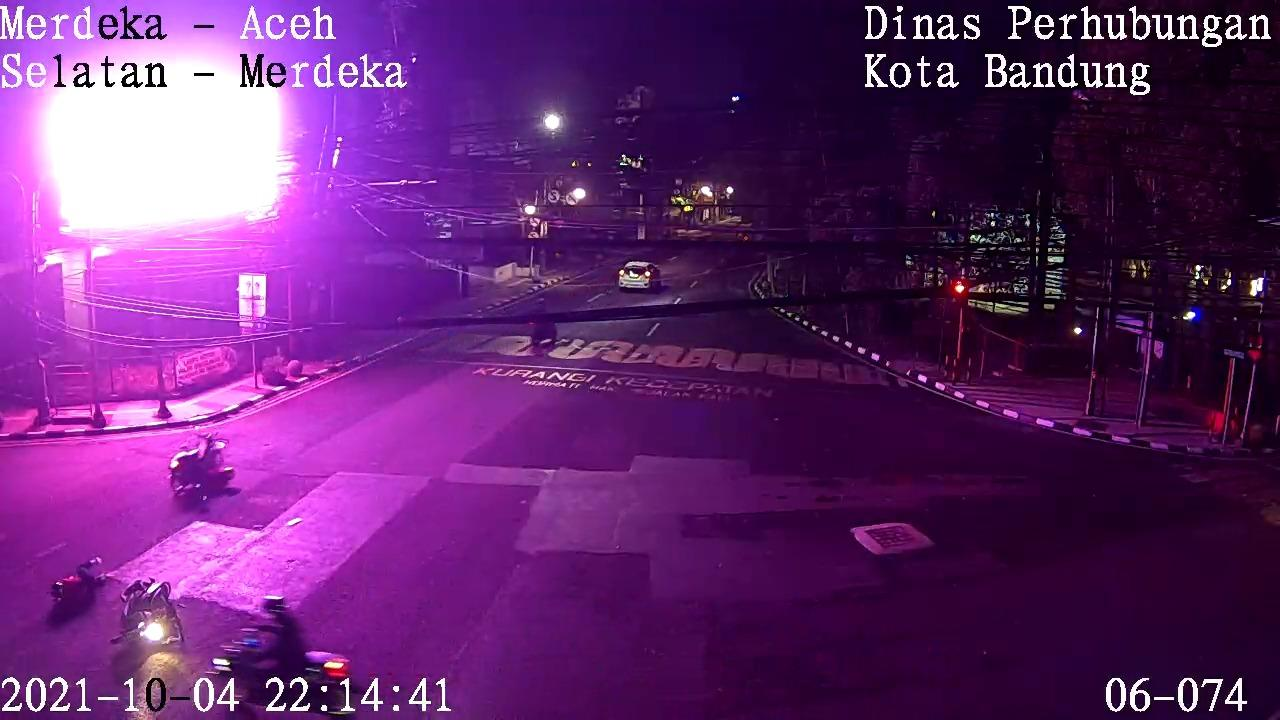accident: (29, 554, 115, 636)
